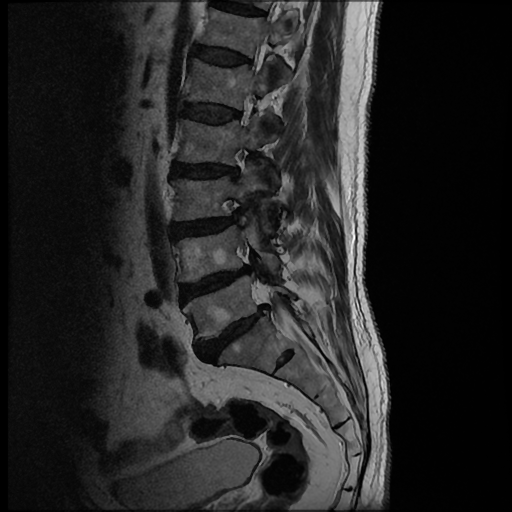RFS0: (224, 87, 271, 136), (218, 140, 259, 187)
